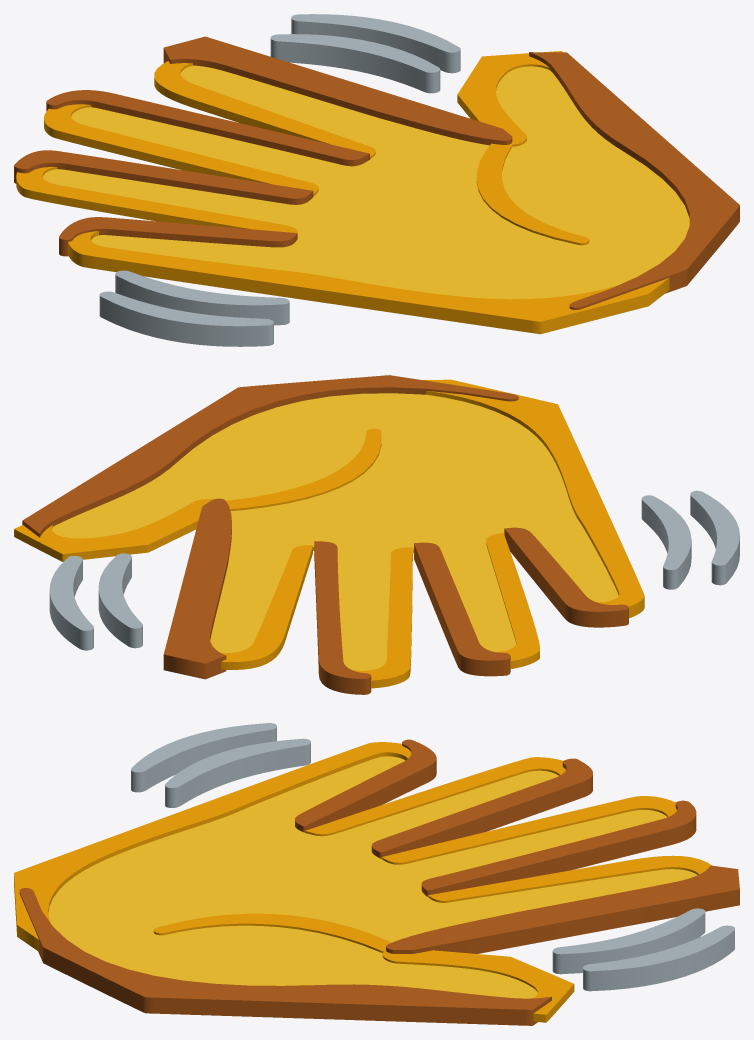
File: emoji_u1f44b.glb
The picture shows the model from 3 angles, top to bottom: view 1: azimuth 30°, elevation 25°; view 2: azimuth 150°, elevation 25°; view 3: azimuth 270°, elevation 25°; orthographic projection. The views are drawn at different scales.
Visible parts, largest first — view 1: emoji_u1f44b; view 2: emoji_u1f44b; view 3: emoji_u1f44b.
Part boxes in pixels (x1,y1,x2,y2): emoji_u1f44b: (14,14,739,346); emoji_u1f44b: (14,375,739,694); emoji_u1f44b: (14,723,739,1025).
Bounding box in the file's own units: 0.0307 × 0.001 × 0.0329.
